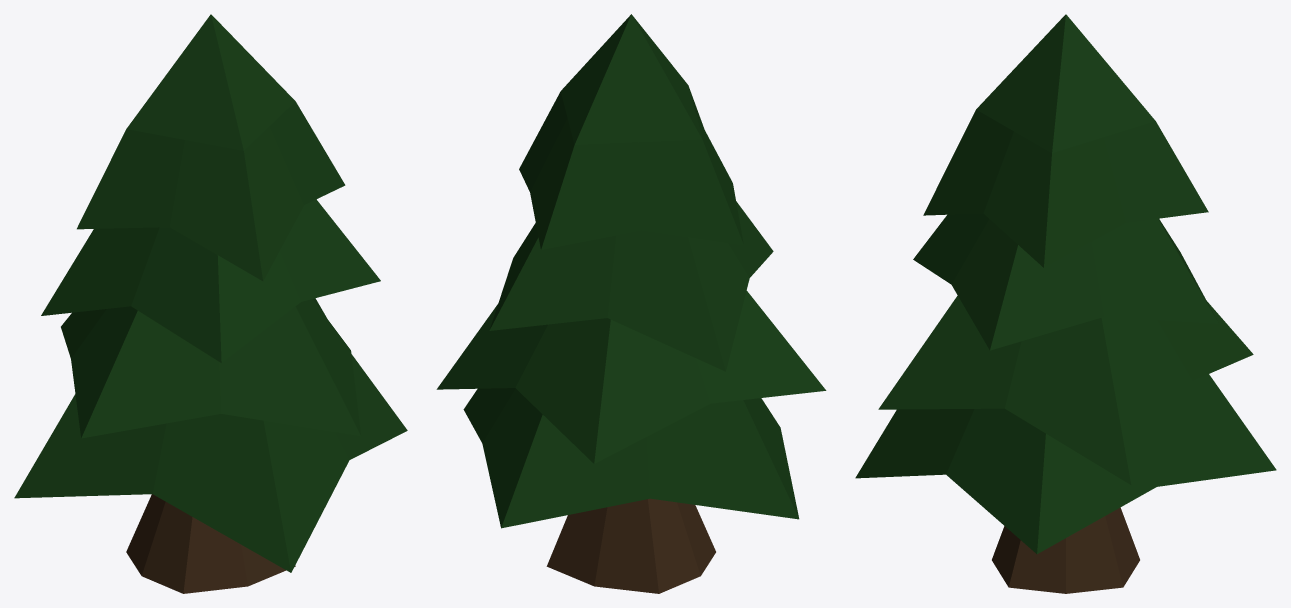
The model's file is pine_tree.glb.
3 renders of one model, left to right at view 1: azimuth 30°, elevation 25°; view 2: azimuth 150°, elevation 25°; view 3: azimuth 270°, elevation 25°, orthographic.
Visible parts, largest first — view 1: Model; view 2: Model; view 3: Model.
Boxes of the visible parts, <box> form: Model: <box>14,14,407,593</box>; Model: <box>436,14,826,593</box>; Model: <box>855,14,1276,593</box>.
Bounding box in the file's own units: 4.93 × 7.04 × 4.93.
